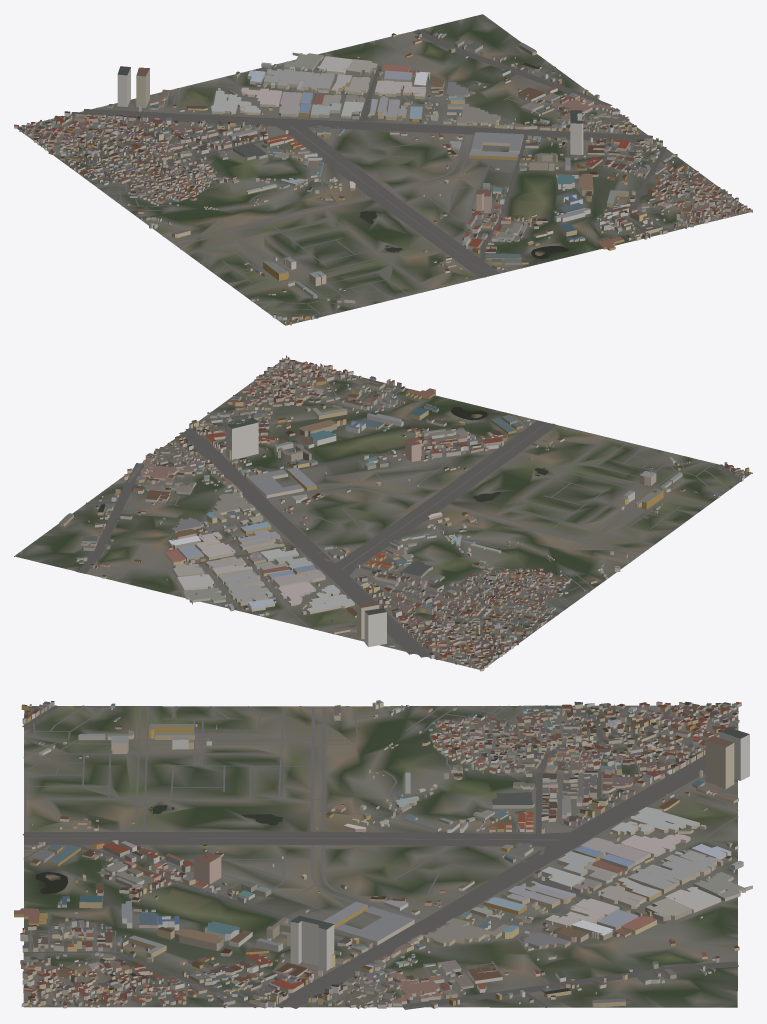
The picture shows the model from 3 angles, top to bottom: view 1: azimuth 30°, elevation 25°; view 2: azimuth 150°, elevation 25°; view 3: azimuth 270°, elevation 25°; orthographic projection. The views are drawn at different scales.
Visible parts, largest first — view 1: ground, buildings, roads, water; view 2: ground, buildings, roads, water; view 3: ground, buildings, roads, water.
Part boxes in pixels (x1=…): ground: x1=17, y1=14, x2=749, y2=325; buildings: x1=14, y1=32, x2=752, y2=325; roads: x1=26, y1=29, x2=719, y2=318; water: x1=359, y1=211, x2=568, y2=258; ground: x1=14, y1=358, x2=752, y2=669; buildings: x1=59, y1=355, x2=749, y2=671; roads: x1=77, y1=366, x2=741, y2=668; water: x1=451, y1=407, x2=548, y2=502; ground: x1=23, y1=705, x2=738, y2=1007; buildings: x1=14, y1=700, x2=752, y2=1008; roads: x1=22, y1=705, x2=738, y2=1009; water: x1=35, y1=805, x2=282, y2=894.
Size of the model in its own units: 1418 by 95.46 by 1451.
